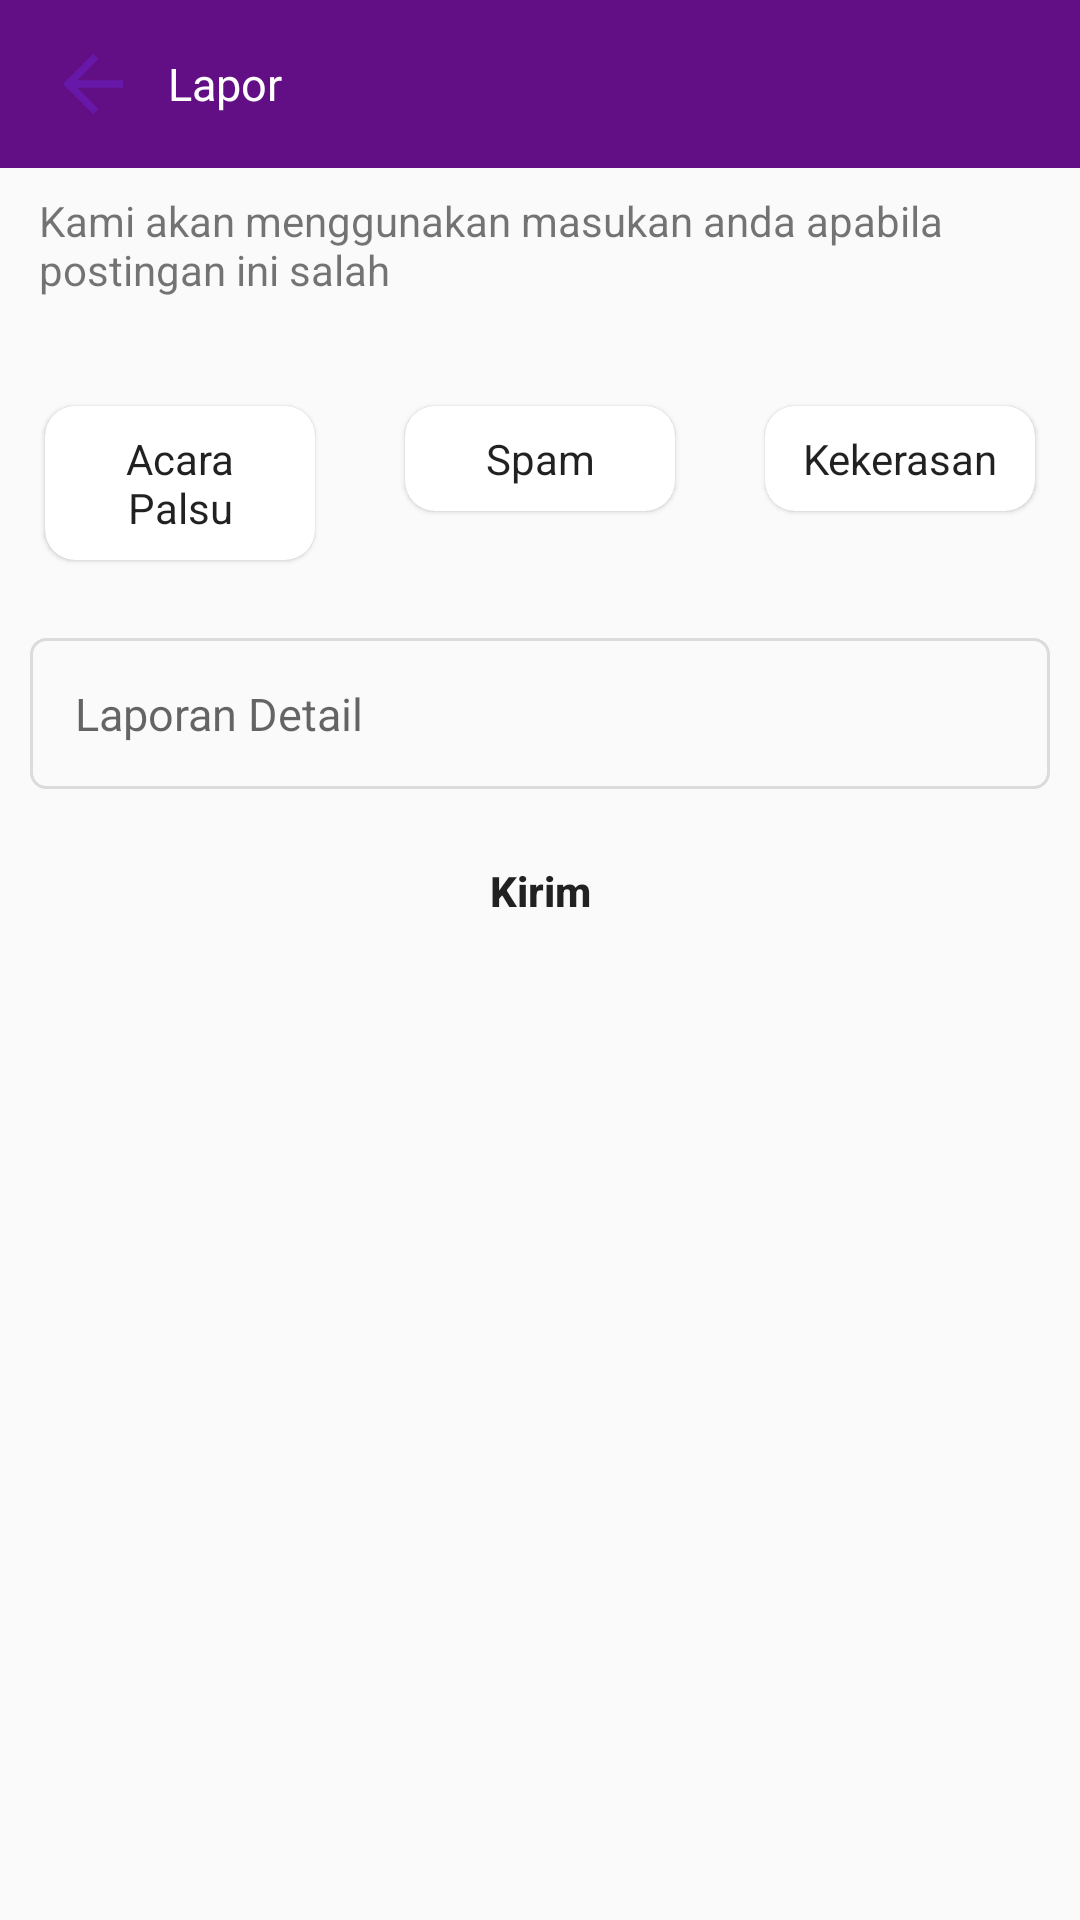

Locate icon controls on the screen. Image size 1080 x 1920, boxes as detection(x1, y1, x2, y2).
arrow back: detection(64, 55, 123, 113)
